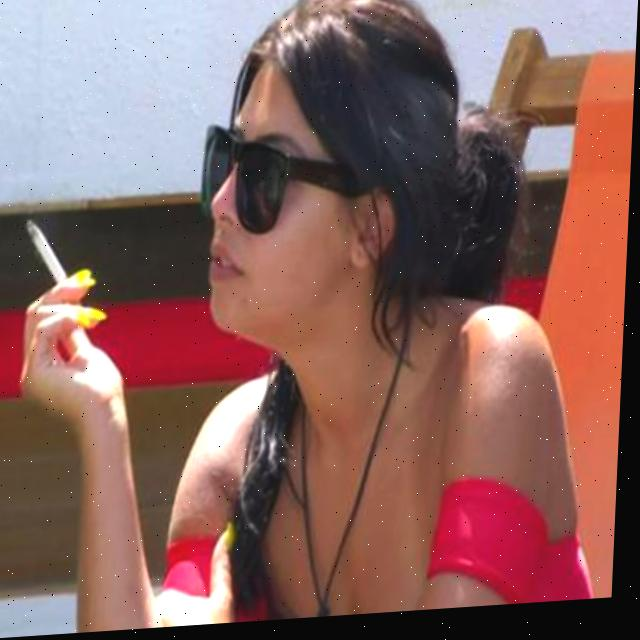cigarette: (26, 220, 72, 288)
